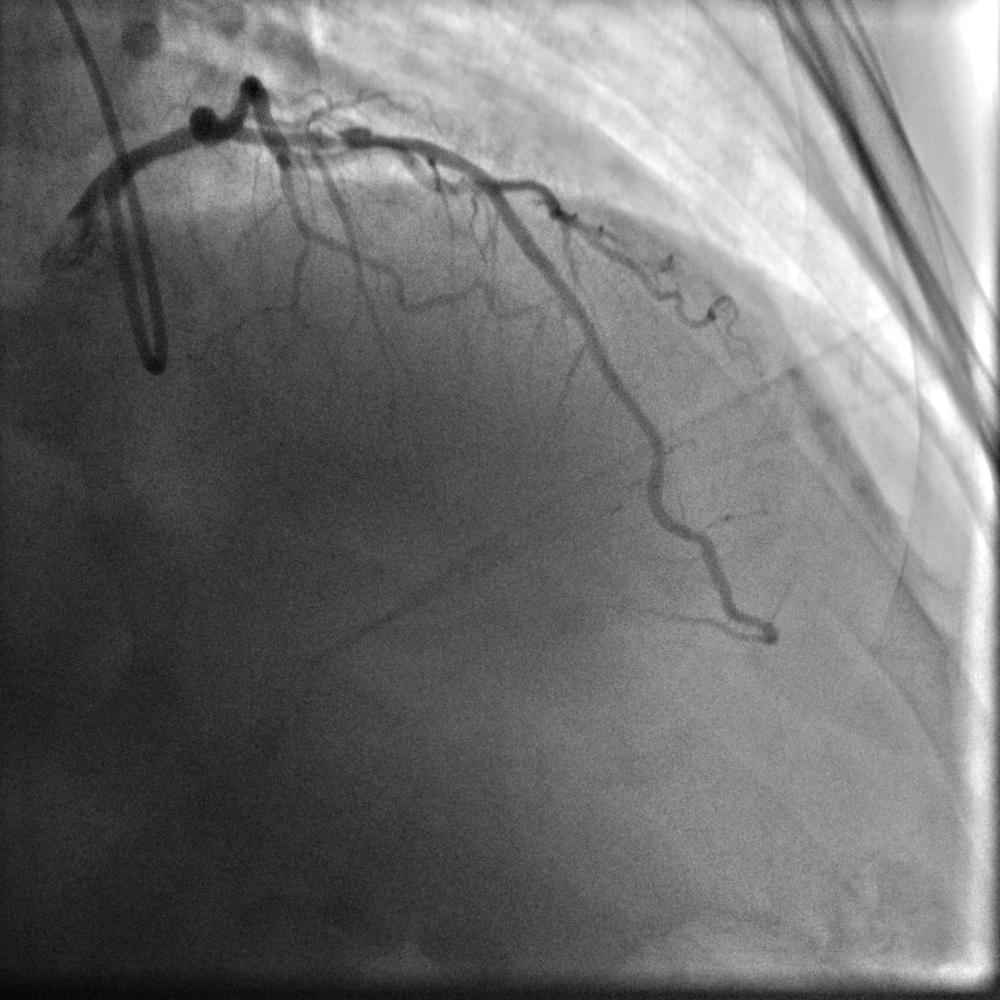Stenosis: (326, 130, 349, 149)
